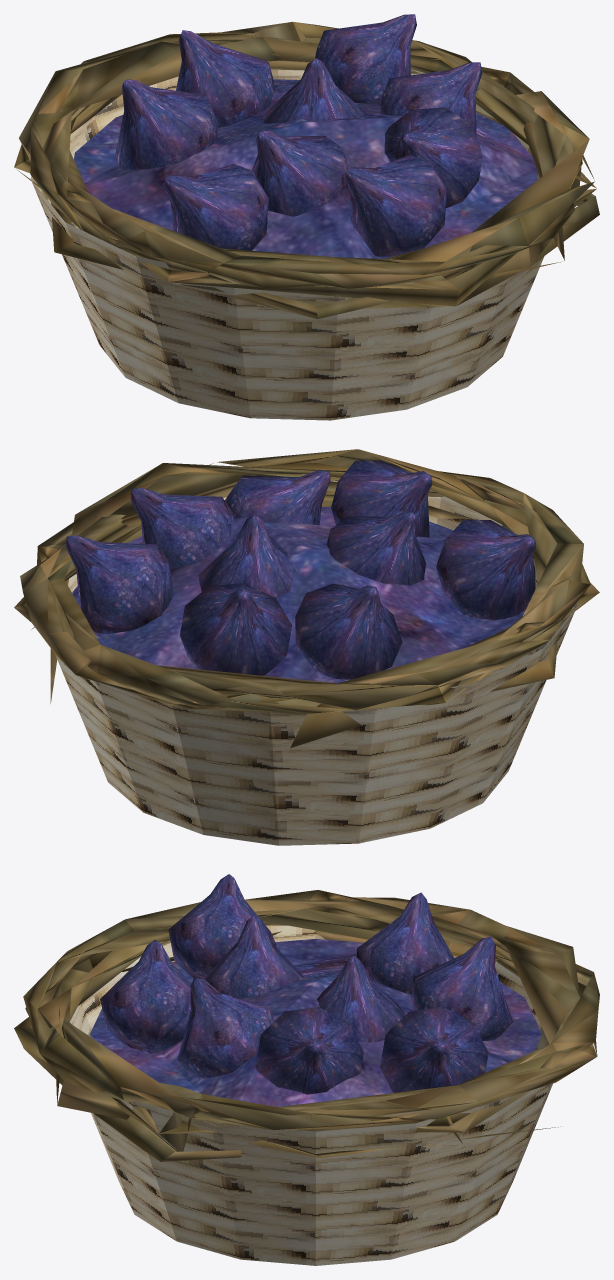
The model's file is basketwicker.glb.
3 renders of one model, top to bottom at view 1: azimuth 30°, elevation 25°; view 2: azimuth 150°, elevation 25°; view 3: azimuth 270°, elevation 25°, orthographic. The views are drawn at different scales.
Visible parts, largest first — view 1: Cylinder, figstop, figs; view 2: Cylinder, figstop, figs; view 3: Cylinder, figstop, figs.
Boxes of the visible parts, x1,y1,x2,y2 form: Cylinder: (14, 21, 599, 420); figstop: (115, 14, 482, 256); figs: (74, 79, 537, 258); Cylinder: (14, 449, 599, 845); figstop: (65, 460, 535, 679); figs: (72, 507, 525, 683); Cylinder: (14, 890, 599, 1265); figstop: (100, 874, 512, 1094); figs: (90, 938, 541, 1106).
Size of the model in its own units: 1.91 by 0.9182 by 2.02.
Materials: 3 (3 with a texture image).
